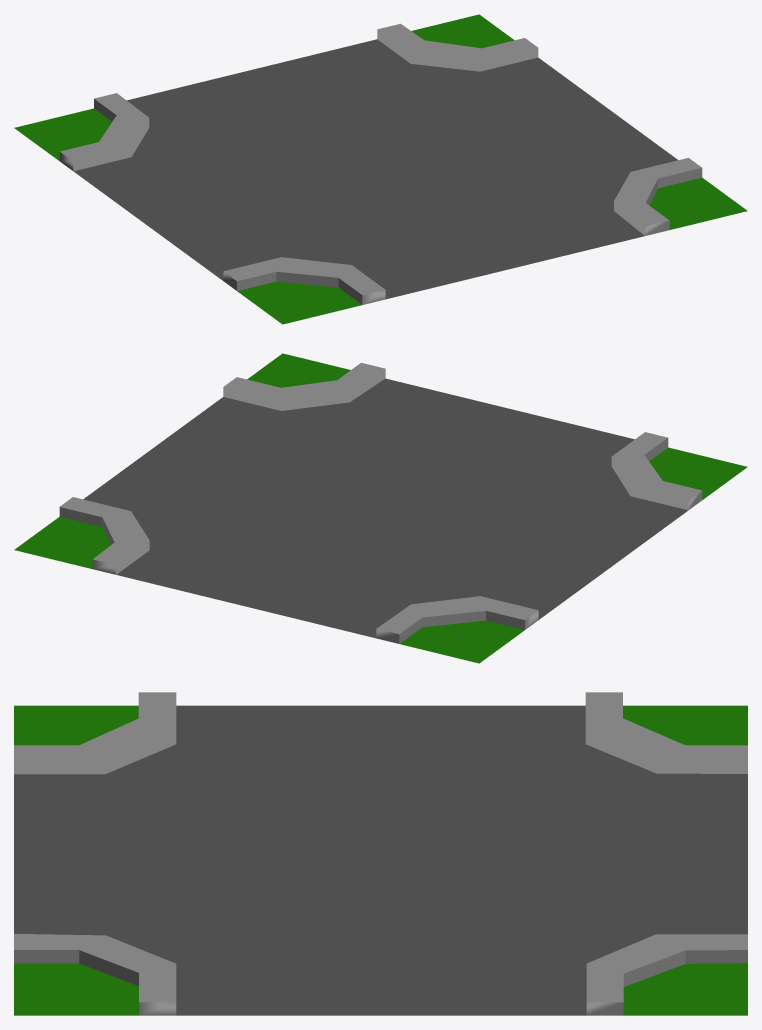
The model's file is ground_pathCross.fbx.
3 views of the same model, one above another, from view 1: azimuth 30°, elevation 25°; view 2: azimuth 150°, elevation 25°; view 3: azimuth 270°, elevation 25° (orthographic). The views are drawn at different scales.
Parts seen in each view (by area): view 1: ground_pathCross; view 2: ground_pathCross; view 3: ground_pathCross.
Boxes of the visible parts, x1=… form: ground_pathCross: x1=14, y1=14, x2=747, y2=324; ground_pathCross: x1=14, y1=353, x2=747, y2=663; ground_pathCross: x1=14, y1=692, x2=747, y2=1015.
Bounding box in the file's own units: 100 × 2.03 × 100.
